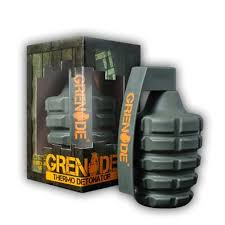e1: (116, 64, 201, 208)
